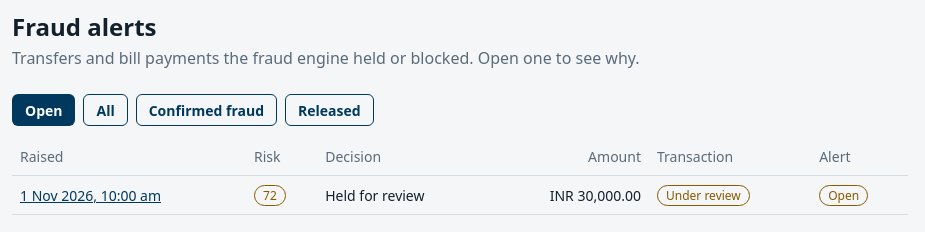
Test case: FraudQueue › lists open alerts and switches filters through the API
This screenshot has width=925, height=232.
Check: the row "2026" is shown, box [12,176,908,215]
Check: the text "72" is shown, box [254,185,286,206]
Step 1. Click the button "Confirmed fraud" → coordinates (206, 110), box [136,94,277,126]
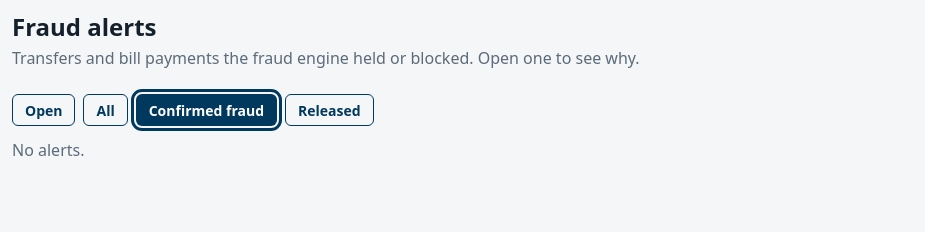
Check: the text "No alerts." is shown, box [12,139,84,161]
